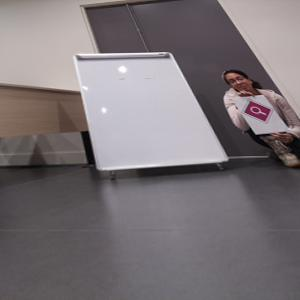big: (73, 50, 228, 173)
